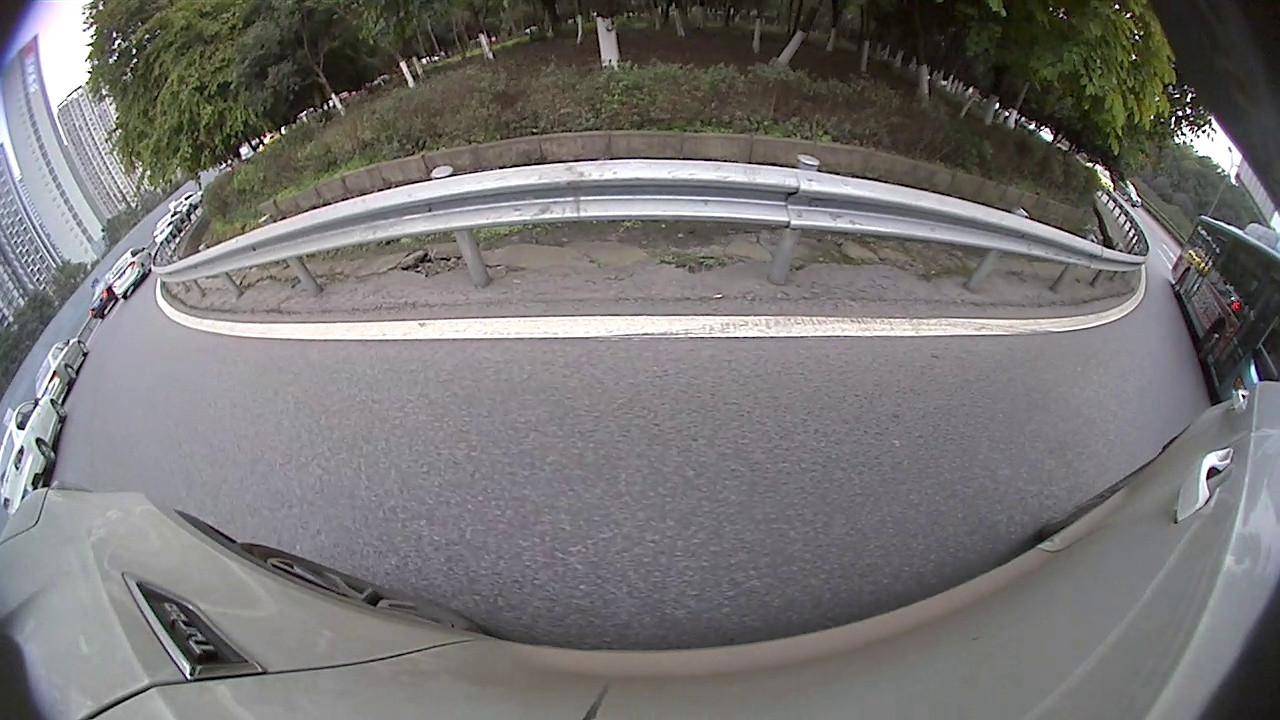bus: (1166, 216, 1278, 398)
car: (1, 394, 65, 511), (35, 337, 89, 400), (106, 245, 150, 301), (87, 279, 125, 322)
front: (1194, 325, 1226, 364), (49, 399, 68, 421), (77, 341, 90, 354)
rear: (35, 439, 58, 463), (1172, 266, 1190, 292), (61, 364, 80, 380)
